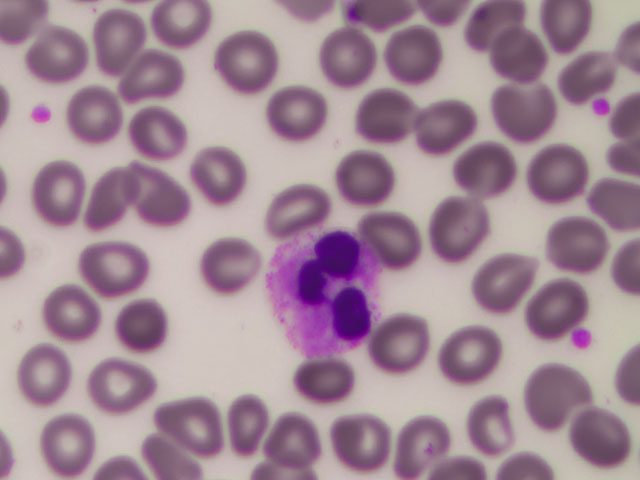Platelets: (587, 92, 613, 118), (31, 100, 56, 127), (570, 330, 591, 348)
RBC: (129, 415, 191, 480), (26, 19, 88, 83), (78, 4, 140, 68), (116, 38, 178, 102), (130, 103, 192, 167), (149, 1, 211, 65), (211, 28, 273, 92), (267, 80, 329, 144), (187, 138, 249, 202), (133, 157, 195, 221), (76, 169, 138, 233), (28, 159, 90, 223), (84, 236, 146, 300), (33, 280, 95, 344), (15, 342, 77, 406), (111, 294, 173, 358), (87, 341, 149, 405), (34, 414, 96, 478), (160, 388, 222, 452), (208, 395, 270, 459), (267, 412, 329, 476), (297, 342, 359, 406), (193, 226, 255, 290), (268, 185, 330, 249), (327, 144, 389, 208), (353, 80, 415, 144), (318, 22, 380, 86), (376, 18, 438, 82), (425, 92, 487, 156), (464, 135, 526, 199), (422, 204, 484, 268), (365, 203, 427, 267), (445, 325, 507, 389), (372, 315, 434, 379), (332, 405, 394, 469), (395, 410, 457, 474), (451, 389, 513, 453), (521, 367, 583, 431), (562, 405, 624, 469), (521, 271, 583, 335), (482, 251, 544, 315), (540, 205, 602, 269), (578, 168, 640, 232), (526, 139, 588, 203), (487, 69, 549, 133), (490, 22, 552, 86), (464, 1, 526, 65), (550, 1, 612, 65), (551, 29, 613, 93), (65, 80, 126, 144)
WBC: (269, 228, 391, 358)
